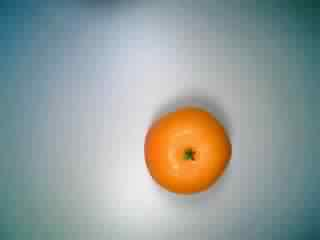orange: (138, 100, 233, 202)
